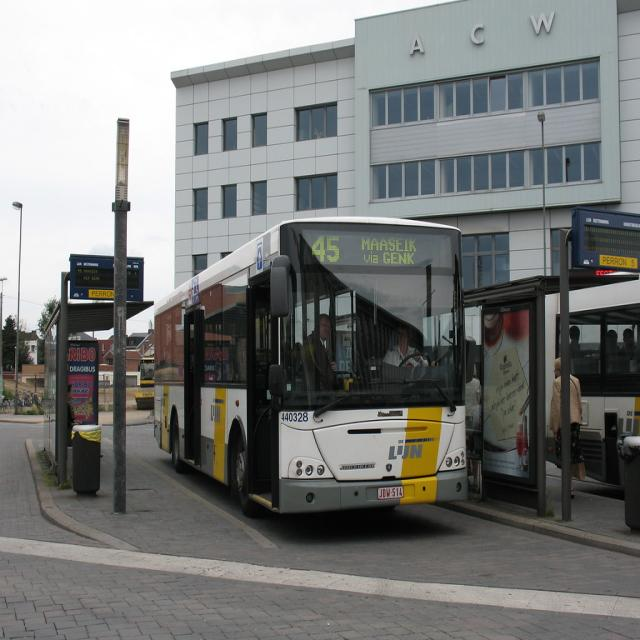bus-number: (308, 231, 344, 266)
